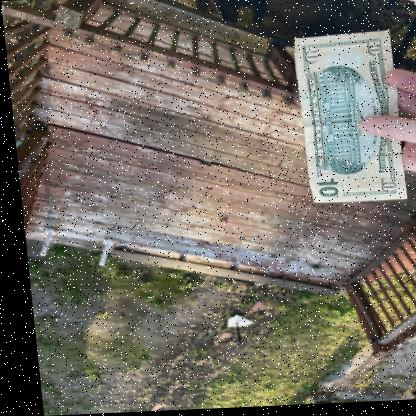ten-back: (291, 34, 401, 204)
